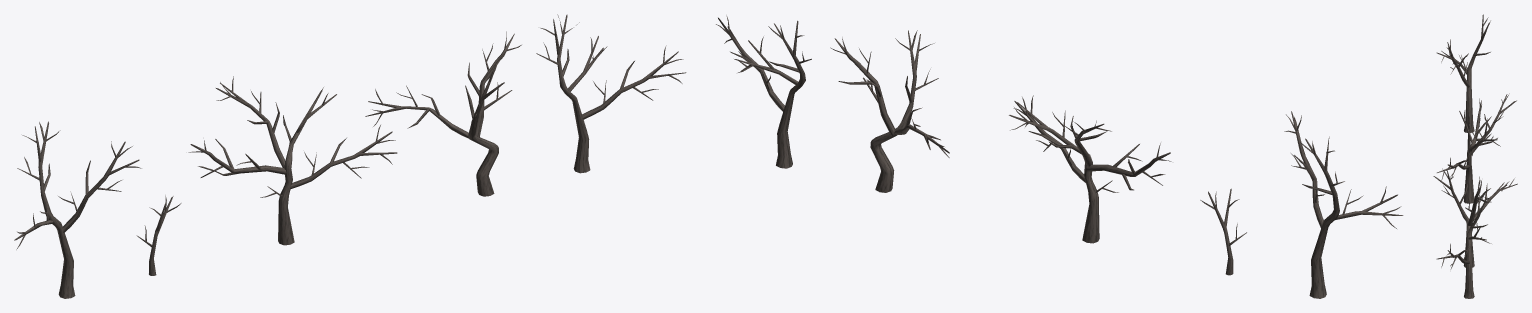
The model's file is dead_trees_free_model_lo.glb.
3 views of the same model, side by side, from view 1: azimuth 30°, elevation 25°; view 2: azimuth 150°, elevation 25°; view 3: azimuth 270°, elevation 25° (orthographic). The views are drawn at different scales.
Visible parts, largest first — view 1: DeadTree_8, DeadTree_7, DeadTree_10, DeadTree_6, DeadTree_9; view 2: DeadTree_8, DeadTree_7, DeadTree_10, DeadTree_6, DeadTree_9; view 3: DeadTree_8, DeadTree_10, DeadTree_7, DeadTree_6, DeadTree_9.
Part boxes in pixels (x1,y1,x2,y2): DeadTree_8: [188, 76, 397, 245]; DeadTree_7: [365, 31, 521, 196]; DeadTree_10: [14, 121, 141, 298]; DeadTree_6: [536, 14, 686, 173]; DeadTree_9: [136, 195, 181, 275]; DeadTree_8: [1009, 95, 1171, 243]; DeadTree_7: [830, 30, 949, 192]; DeadTree_10: [1284, 111, 1403, 298]; DeadTree_6: [716, 15, 811, 168]; DeadTree_9: [1200, 188, 1246, 275]; DeadTree_8: [1437, 93, 1516, 203]; DeadTree_10: [1436, 14, 1490, 132]; DeadTree_7: [1433, 168, 1517, 267]; DeadTree_6: [1436, 192, 1491, 298]; DeadTree_9: [1459, 110, 1470, 150].
Bounding box in the file's own units: 29.75 × 7.13 × 5.
Materials: 1 (1 with a texture image).
